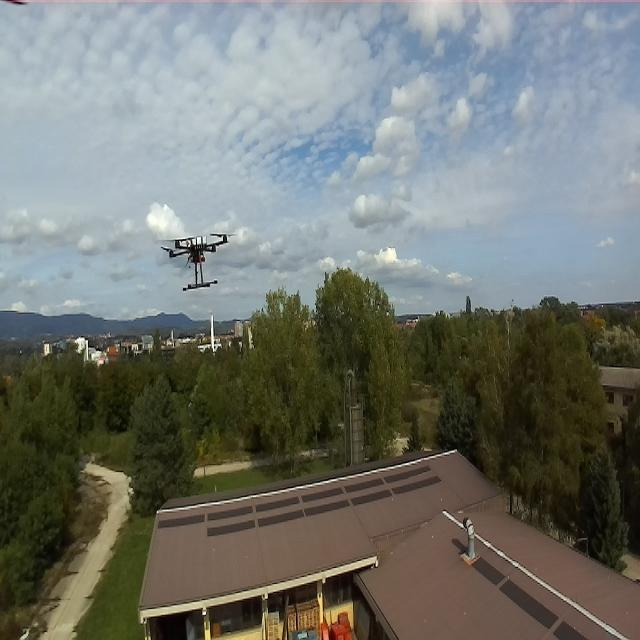UAV: (154, 222, 242, 292)
